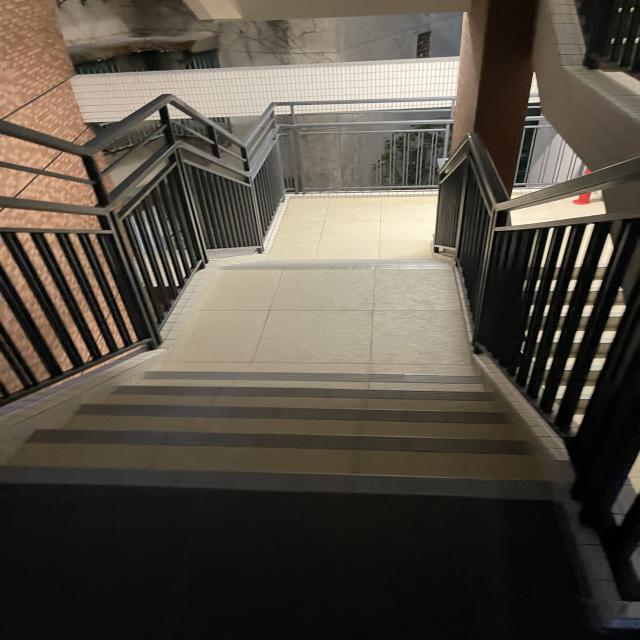Stairs: (0, 347, 590, 506), (132, 250, 508, 366), (255, 186, 444, 271)
